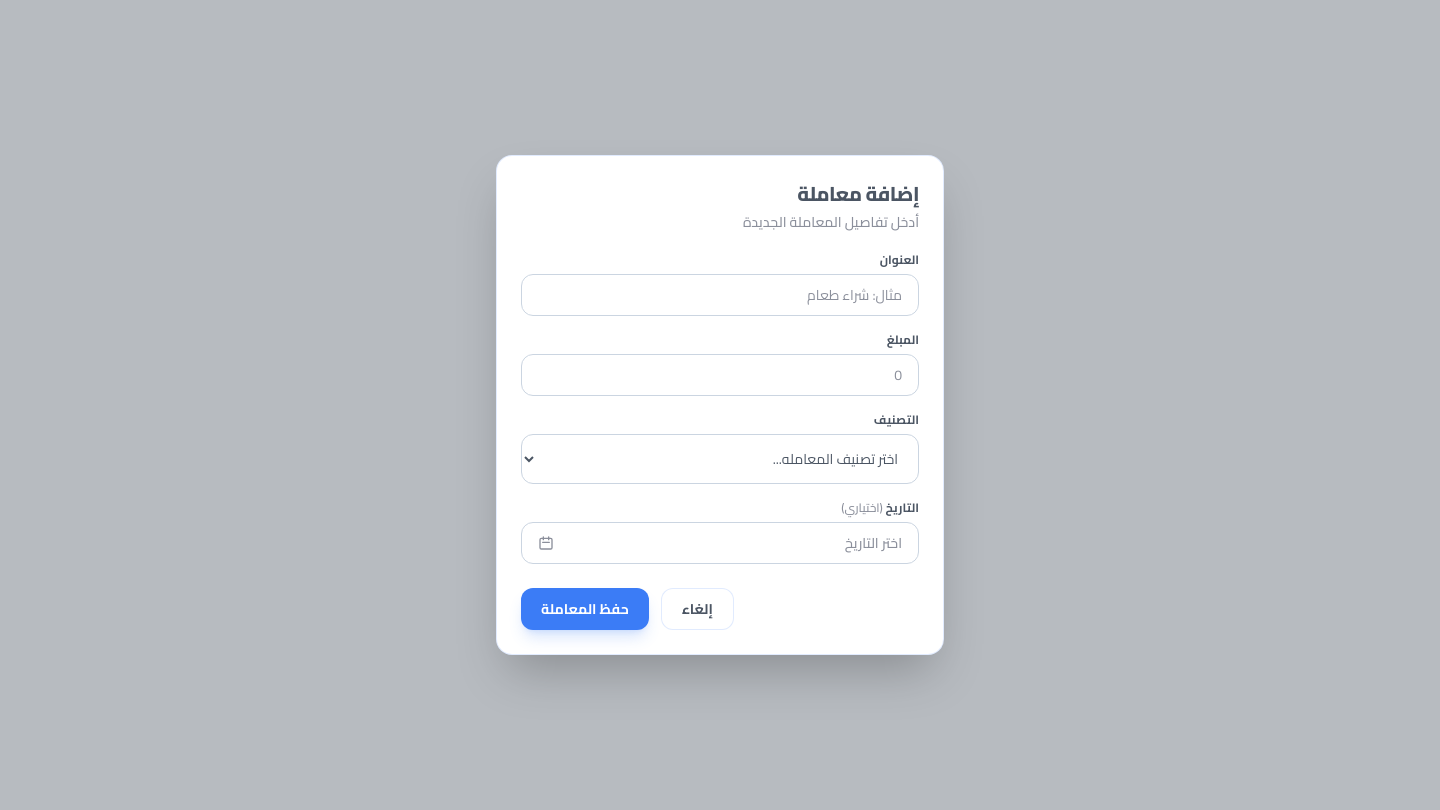
Test: CreateTransactionModal › shows dialog and validates empty submit
expect the dialog is shown: met, box [496,155,944,655]
Click the button "حفظ المعاملة": (585, 609) [521,588,649,630]
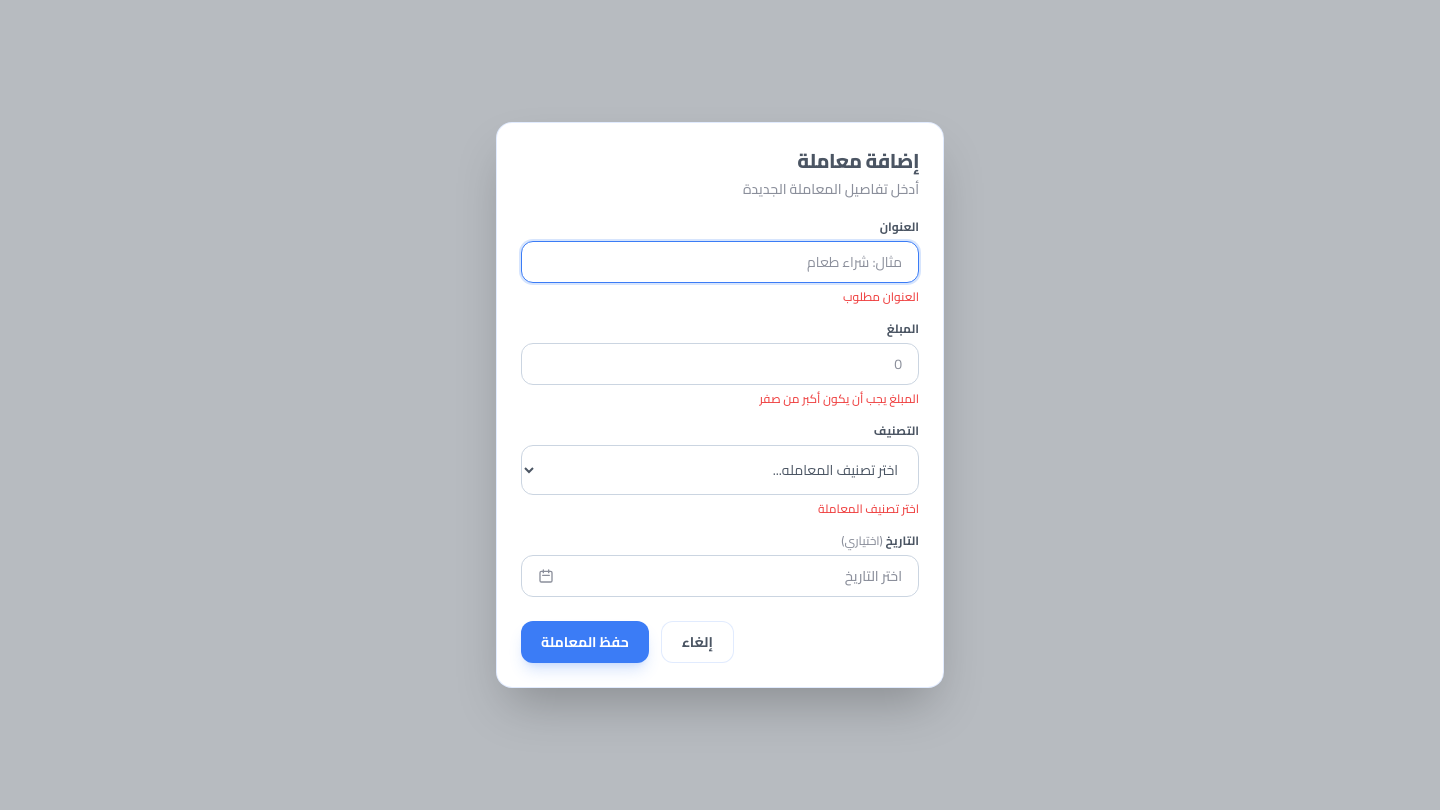
expect the text "العنوان مطلوب" is shown: met, box [843,285,919,308]
